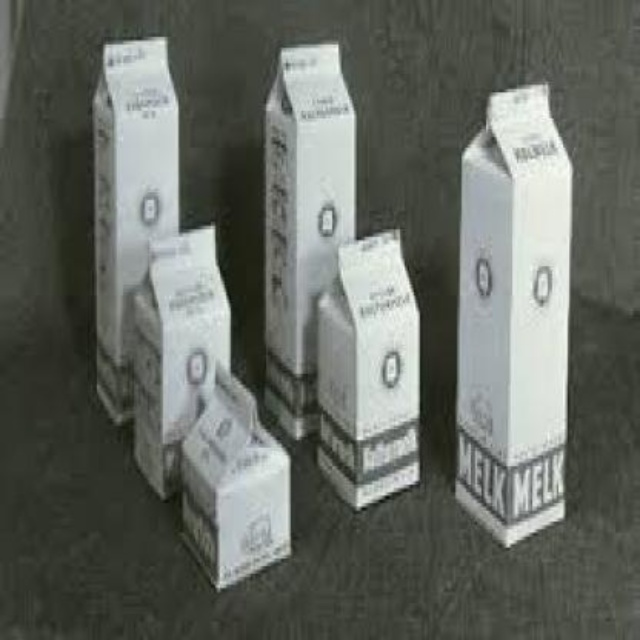trash: (455, 85, 571, 545), (265, 45, 354, 438), (94, 37, 177, 422), (317, 231, 418, 508), (134, 226, 229, 497), (182, 371, 289, 588)
